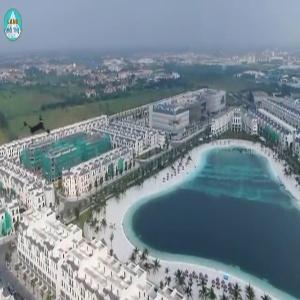drone: (2, 95, 71, 164)
